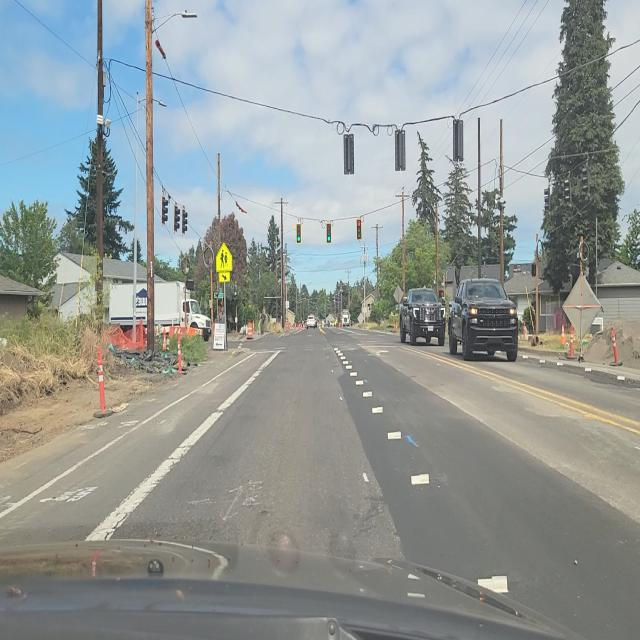car: (447, 277, 519, 361), (398, 287, 444, 348), (306, 314, 317, 330), (342, 314, 350, 327)
delineator: (93, 346, 114, 420), (216, 243, 233, 278), (610, 325, 620, 366), (176, 327, 184, 375), (568, 326, 574, 358), (162, 326, 168, 352), (560, 322, 566, 346), (523, 322, 528, 341), (298, 321, 304, 330), (286, 321, 290, 332)
